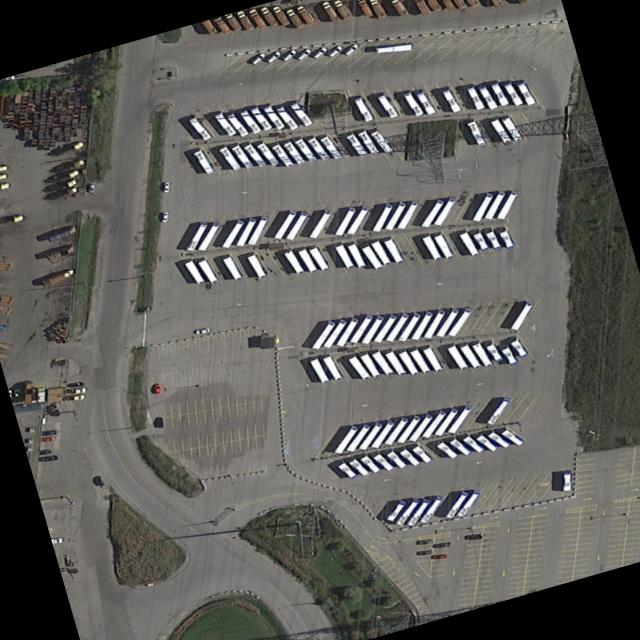large-vehicle: (332, 425, 359, 454), (418, 495, 445, 523), (345, 424, 372, 452), (356, 423, 383, 451), (446, 308, 472, 337), (359, 315, 385, 344), (321, 319, 347, 348), (396, 312, 421, 342), (384, 312, 409, 342), (348, 314, 373, 344), (407, 414, 434, 441), (484, 398, 511, 425), (272, 211, 298, 239), (395, 415, 421, 443), (383, 417, 409, 445), (369, 421, 395, 449), (220, 219, 245, 248), (284, 211, 309, 240), (307, 210, 332, 239), (345, 206, 370, 235), (409, 311, 434, 340), (372, 314, 397, 343), (420, 199, 445, 228), (510, 301, 535, 330), (335, 317, 359, 347), (310, 323, 336, 350), (469, 341, 495, 368), (394, 498, 420, 525), (405, 499, 431, 526), (443, 492, 469, 519), (395, 348, 420, 376), (39, 267, 74, 287), (197, 222, 221, 251), (370, 203, 394, 232), (422, 310, 446, 339), (381, 236, 405, 265), (420, 412, 446, 438), (455, 492, 481, 518), (433, 410, 459, 436), (182, 258, 207, 285), (407, 347, 432, 374), (346, 354, 371, 381), (457, 230, 482, 257), (306, 245, 330, 273), (435, 309, 459, 337), (420, 345, 444, 373), (383, 202, 407, 230), (234, 218, 257, 247), (246, 216, 269, 245), (333, 207, 356, 236), (396, 201, 419, 230), (281, 249, 306, 275), (383, 349, 408, 375), (281, 140, 307, 165), (241, 142, 267, 167), (447, 408, 472, 434), (195, 257, 219, 284), (295, 247, 319, 274), (292, 139, 319, 163), (367, 130, 394, 154), (345, 241, 368, 269), (185, 223, 208, 251), (471, 194, 494, 222), (305, 137, 330, 162), (247, 107, 272, 132), (368, 239, 392, 265), (458, 343, 482, 369), (317, 136, 343, 160), (287, 102, 313, 126), (273, 107, 299, 131), (445, 343, 468, 370), (320, 354, 343, 381), (358, 351, 381, 378), (431, 233, 454, 260), (483, 193, 506, 220), (370, 350, 394, 375), (260, 106, 285, 130), (344, 133, 368, 158), (229, 145, 254, 169), (217, 147, 242, 171), (401, 92, 425, 117), (221, 255, 244, 281), (360, 244, 383, 270), (254, 143, 280, 166), (500, 81, 523, 107), (333, 242, 355, 269), (433, 199, 455, 226), (375, 95, 399, 119), (269, 144, 293, 168), (238, 110, 262, 134), (213, 113, 237, 137), (351, 98, 374, 123), (224, 114, 249, 137), (489, 119, 512, 144), (500, 117, 523, 142), (187, 118, 212, 141), (245, 252, 267, 278), (420, 234, 442, 260), (497, 428, 527, 447), (496, 193, 517, 220), (356, 131, 379, 155), (192, 150, 214, 175), (308, 358, 329, 384), (515, 80, 536, 106), (44, 244, 76, 261), (45, 225, 77, 242), (414, 91, 436, 115), (465, 121, 486, 146), (488, 82, 509, 107), (384, 449, 409, 470), (446, 436, 472, 456), (346, 457, 372, 477), (481, 340, 503, 363), (384, 500, 407, 522), (477, 86, 498, 110), (441, 89, 462, 113), (369, 452, 395, 471), (465, 86, 485, 110), (358, 454, 382, 474), (473, 434, 499, 452), (485, 431, 511, 449), (498, 344, 519, 366), (507, 337, 529, 358), (335, 459, 358, 479), (471, 228, 490, 252), (397, 447, 421, 466), (434, 442, 459, 460), (460, 435, 485, 453), (483, 227, 502, 250), (496, 228, 515, 250), (374, 43, 412, 54), (410, 445, 433, 463), (562, 471, 571, 492)
small-vehicle: (268, 4, 291, 28), (245, 7, 269, 30), (319, 0, 340, 25), (256, 5, 278, 28), (283, 8, 305, 30), (234, 10, 256, 32), (364, 0, 388, 20), (294, 5, 316, 26), (386, 0, 409, 19), (330, 0, 351, 20), (353, 0, 373, 20), (223, 13, 242, 33), (411, 0, 431, 17), (292, 47, 313, 62), (278, 48, 297, 63), (423, 0, 442, 14), (341, 42, 360, 56), (247, 51, 266, 65), (263, 50, 282, 64), (324, 45, 343, 58), (309, 46, 328, 59), (439, 0, 456, 13), (36, 455, 58, 463), (452, 0, 467, 11), (487, 0, 504, 9), (464, 0, 479, 10), (65, 387, 86, 394), (38, 429, 56, 437), (64, 394, 84, 401), (92, 475, 103, 487), (49, 403, 59, 416), (194, 327, 210, 335), (416, 538, 434, 545), (36, 436, 54, 443), (433, 542, 449, 549), (159, 211, 169, 222), (66, 381, 84, 387), (416, 549, 431, 556), (153, 416, 161, 429), (466, 534, 482, 540), (152, 383, 160, 395), (35, 449, 51, 455), (162, 181, 170, 193), (86, 183, 95, 193), (432, 554, 446, 559)
